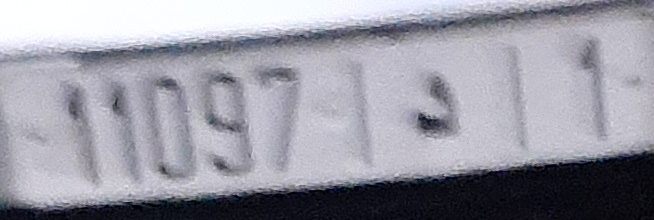0: (143, 73, 201, 184)
1: (572, 33, 620, 141), (59, 81, 103, 190), (104, 80, 145, 187)
7: (256, 65, 304, 171)
9: (199, 71, 256, 177)
d: (399, 70, 472, 143)
